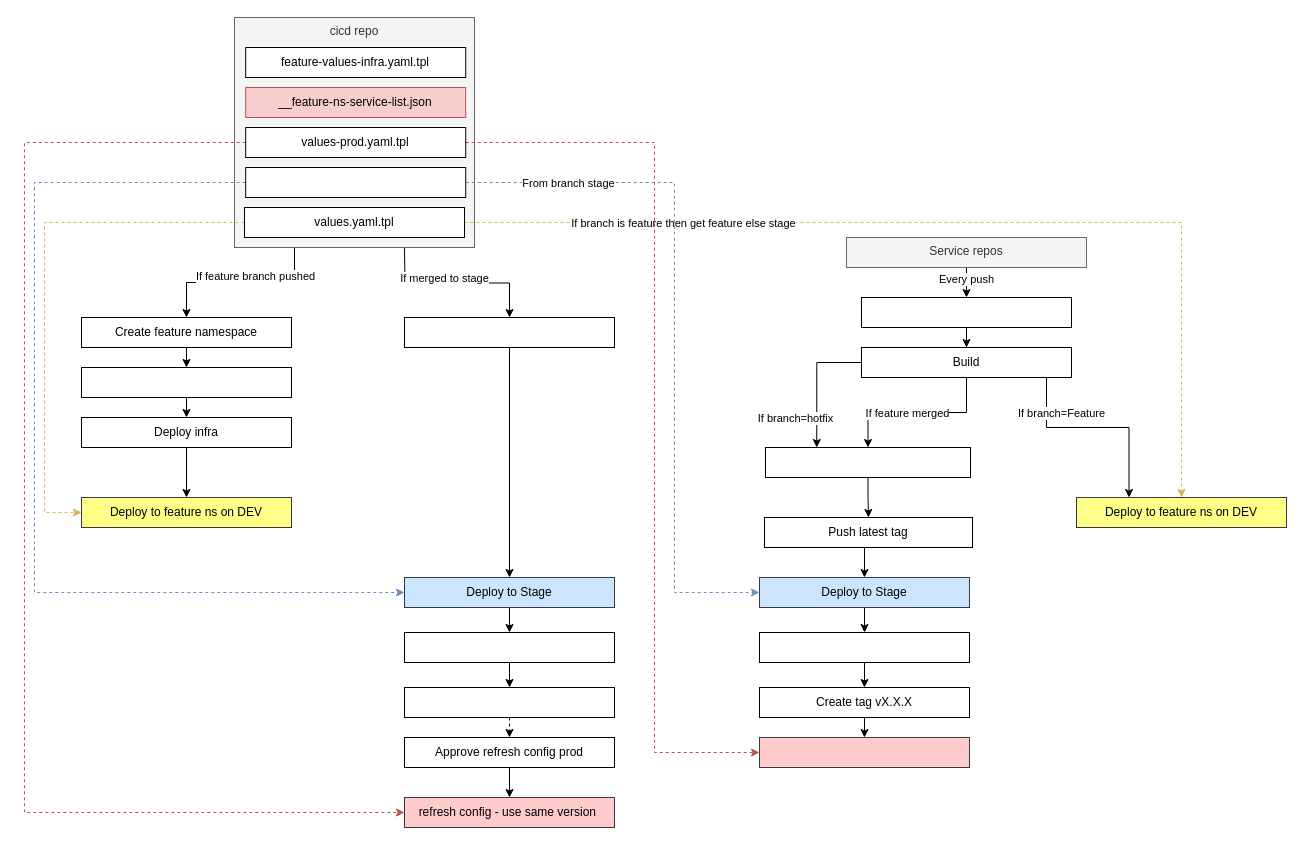
This 1304x845 diagram has some shape labels left out. The box of each missing label's shape, as (x1, y1, x2, y2) in pixels:
+ tag PROD at current master: (404, 686, 614, 718)
Approve deploy prod: (758, 632, 970, 662)
Approve deploy stage: (764, 446, 970, 478)
Approve mark config as prod: (404, 632, 614, 662)
Approve to deploy stage: (404, 316, 614, 348)
Create secrets from dev: (80, 366, 292, 398)
Deploy Prod: (758, 736, 970, 768)
Test: (860, 296, 1072, 328)
values-stage.yaml.tpl: (245, 166, 466, 198)
